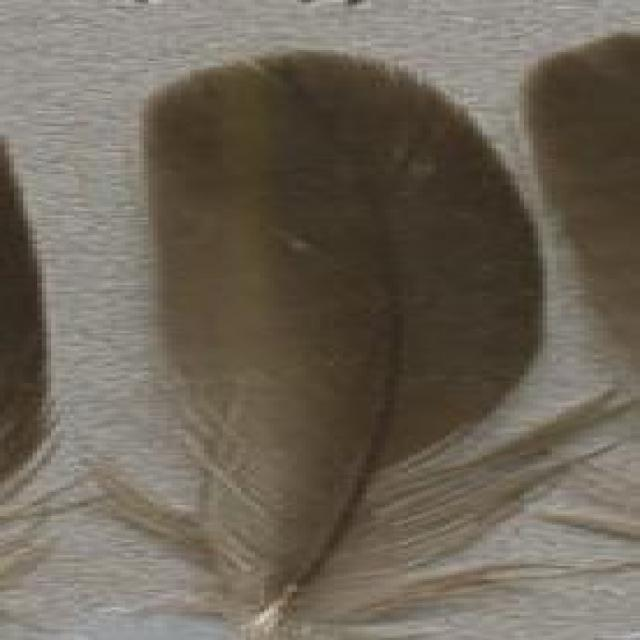feather: (88, 43, 635, 640)
